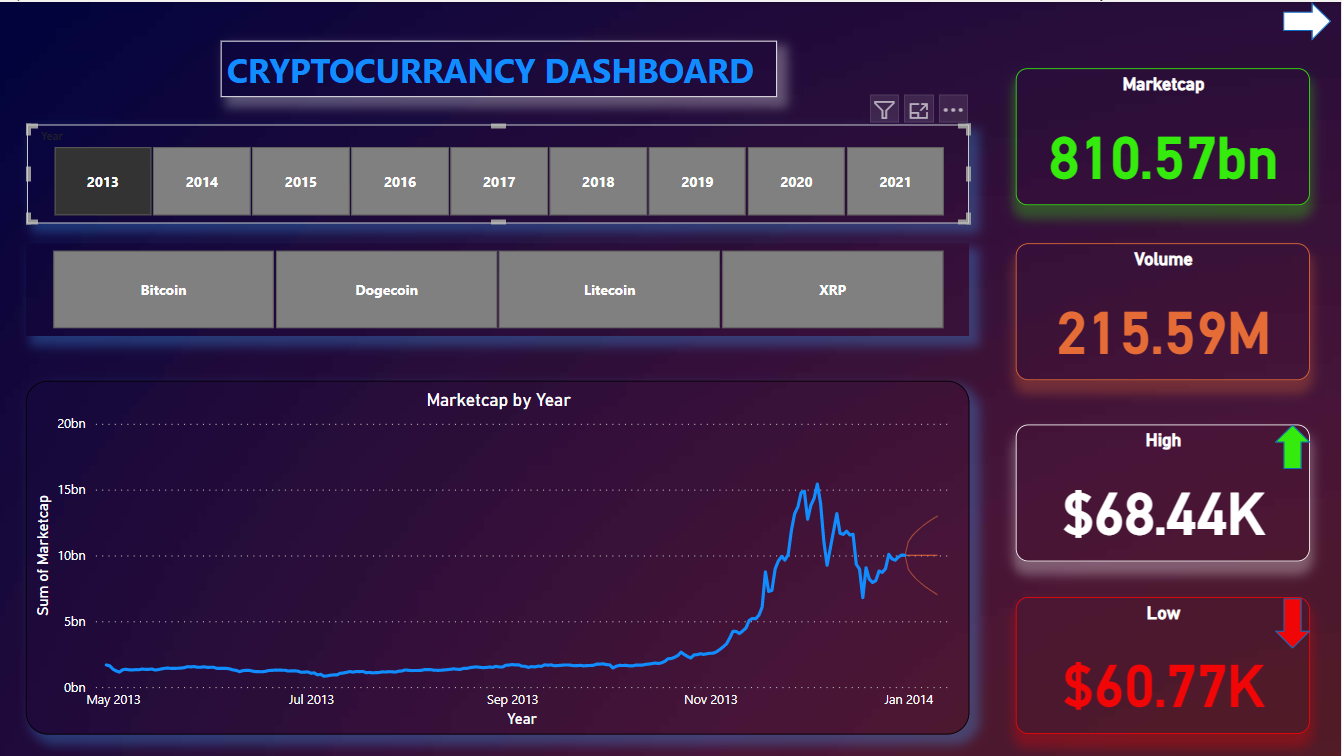

The dashboard page shown, as its layout file describes it:
{"tool":"powerbi","page":{"name":"Page 1","canvas":[1280,720],"ordinal":0},"visuals":[{"type":"lineChart","title":"Marketcap by Year","fields":{"Y":["Sum(CryptoData.Marketcap)"],"Category":["CryptoData.Date.Variation.Date Hierarchy.Year","CryptoData.Date.Variation.Date Hierarchy.Quarter","CryptoData.Date.Variation.Date Hierarchy.Month","CryptoData.Date.Variation.Date Hierarchy.Day"]},"box":[27.4,360.6,898.5,336.8],"z":0},{"type":"slicer","fields":{"Values":["CryptoData.Date.Variation.Date Hierarchy.Year"]},"box":[28.8,116.8,897,93.4],"z":1000},{"type":"slicer","fields":{"Values":["CryptoData.Name"]},"box":[27.4,229.2,897.4,87.8],"z":2000},{"type":"card","title":"Marketcap","fields":{"Values":["Sum(CryptoData.Marketcap)"]},"box":[970.2,63.1,279.9,130.4],"z":3000},{"type":"card","title":"Volume","fields":{"Values":["Sum(CryptoData.Volume)"]},"box":[970.2,229.2,279.9,130.4],"z":4000},{"type":"card","title":"High","fields":{"Values":["Sum(CryptoData.High)"]},"box":[970.2,402.1,279.9,130.4],"z":5000},{"type":"card","title":"Low","fields":{"Values":["Sum(CryptoData.Low)"]},"box":[970.2,566.7,279.9,130.4],"z":6000},{"type":"textbox","box":[212.7,37,529.7,53.5],"z":7000},{"type":"shape","box":[1215.7,402.5,34.3,42.6],"z":8000},{"type":"shape","box":[1215.7,567.3,34.3,48.1],"z":9000},{"type":"shape","box":[1224.6,0,45.2,36.9],"z":10000}]}

Visuals, with their boxes in screenshot pixels (x1, y1, x2, y2), scaled from the page's 1280x720 canvas onto the 1342x756 screenshot:
"Marketcap by Year" lineChart: x1=29, y1=379, x2=971, y2=732
slicer - CryptoData.Date.Variation.Date Hierarchy.Year: x1=30, y1=123, x2=971, y2=221
slicer - CryptoData.Name: x1=29, y1=241, x2=970, y2=333
"Marketcap" card: x1=1017, y1=66, x2=1311, y2=203
"Volume" card: x1=1017, y1=241, x2=1311, y2=378
"High" card: x1=1017, y1=422, x2=1311, y2=559
"Low" card: x1=1017, y1=595, x2=1311, y2=732
textbox: x1=223, y1=39, x2=778, y2=95
shape: x1=1275, y1=423, x2=1311, y2=467
shape: x1=1275, y1=596, x2=1311, y2=646
shape: x1=1284, y1=0, x2=1331, y2=39
